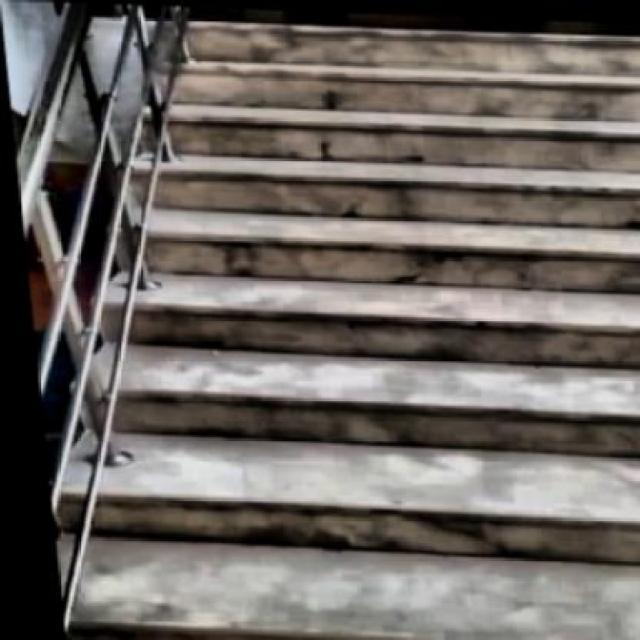stair: (18, 0, 638, 638)
